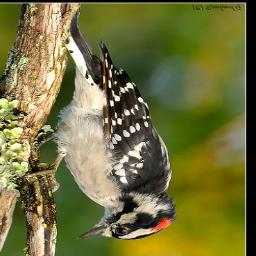Woodpecker: (30, 11, 181, 240)
